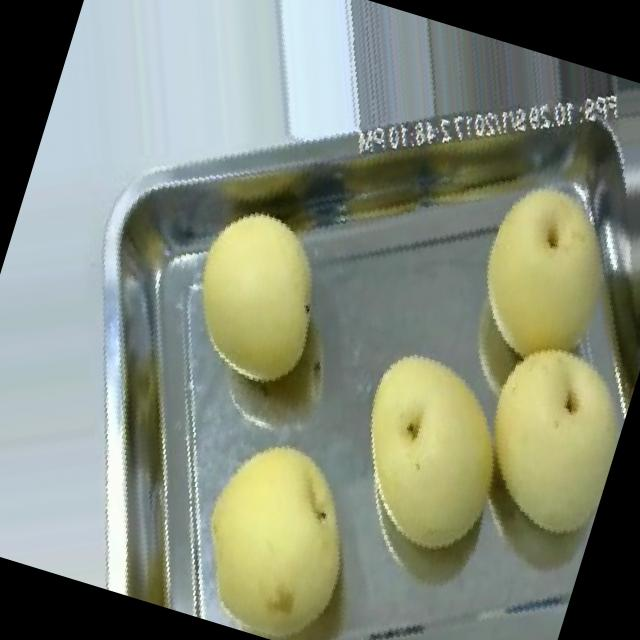Fruit: (154, 397, 410, 640), (306, 318, 524, 584), (426, 302, 640, 567), (144, 175, 370, 418), (429, 147, 640, 404)
